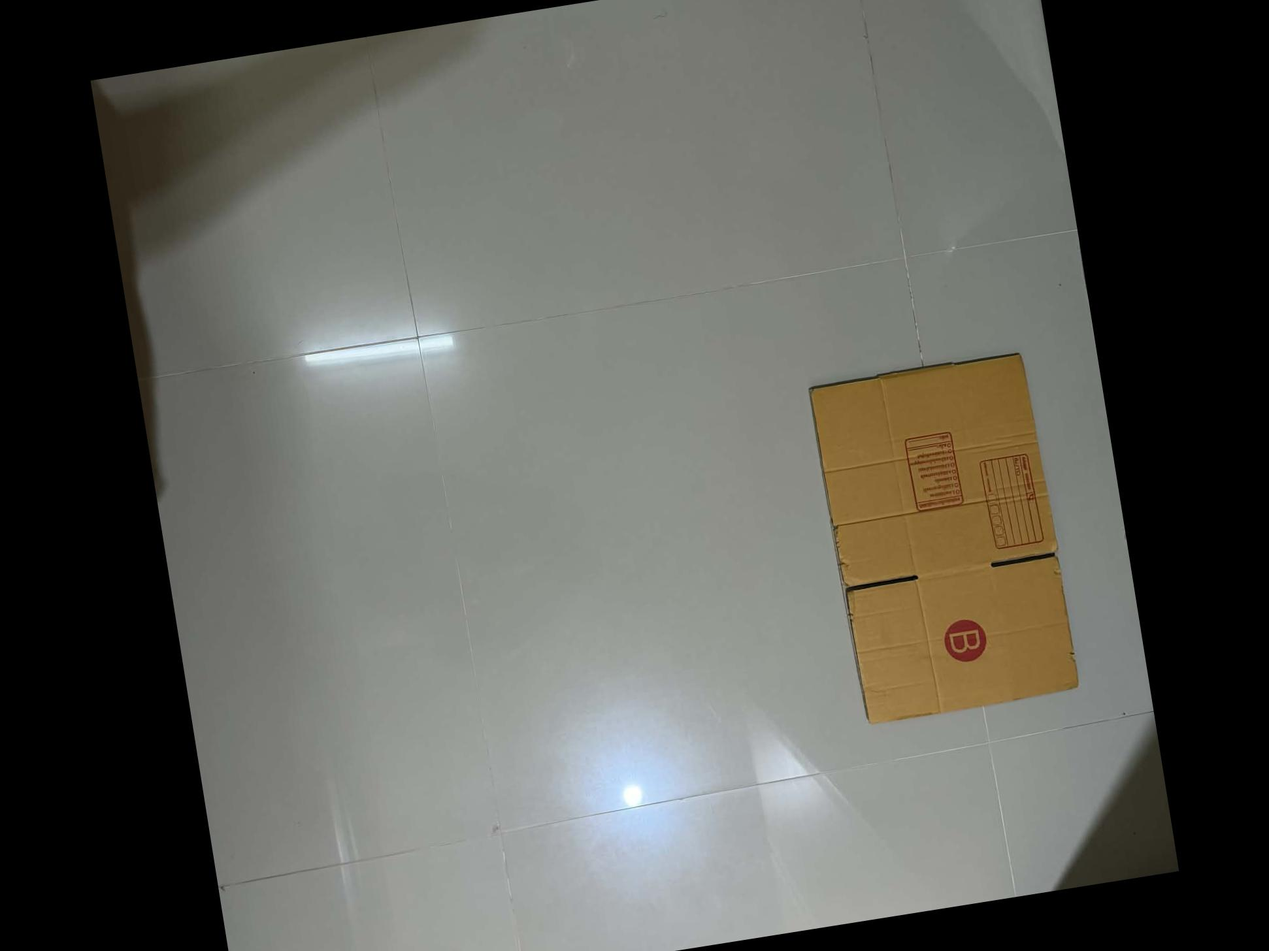box: (978, 447, 1048, 549), (901, 423, 967, 518), (940, 619, 986, 666)
class0: (810, 345, 1083, 725)
